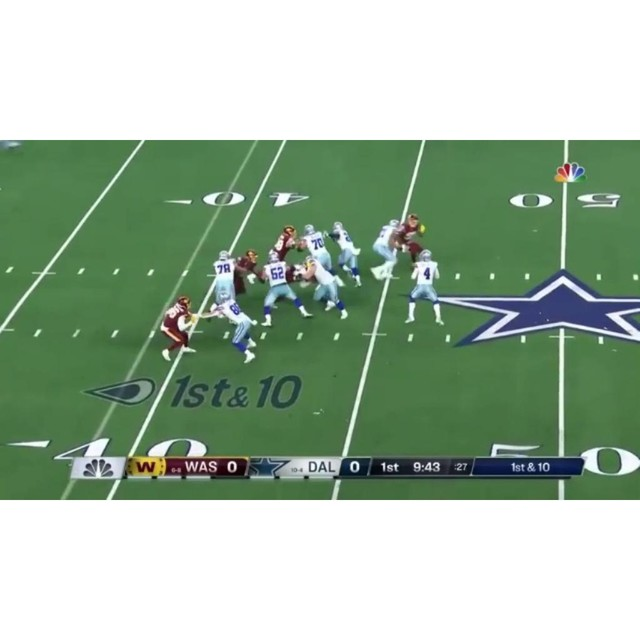american-football-player: (203, 289, 259, 364), (260, 253, 311, 325), (404, 249, 445, 326), (301, 254, 348, 320), (159, 295, 201, 362), (327, 222, 363, 287), (371, 219, 402, 280), (209, 249, 238, 306), (302, 223, 334, 270), (397, 214, 427, 264), (233, 248, 261, 296), (269, 225, 297, 262)
